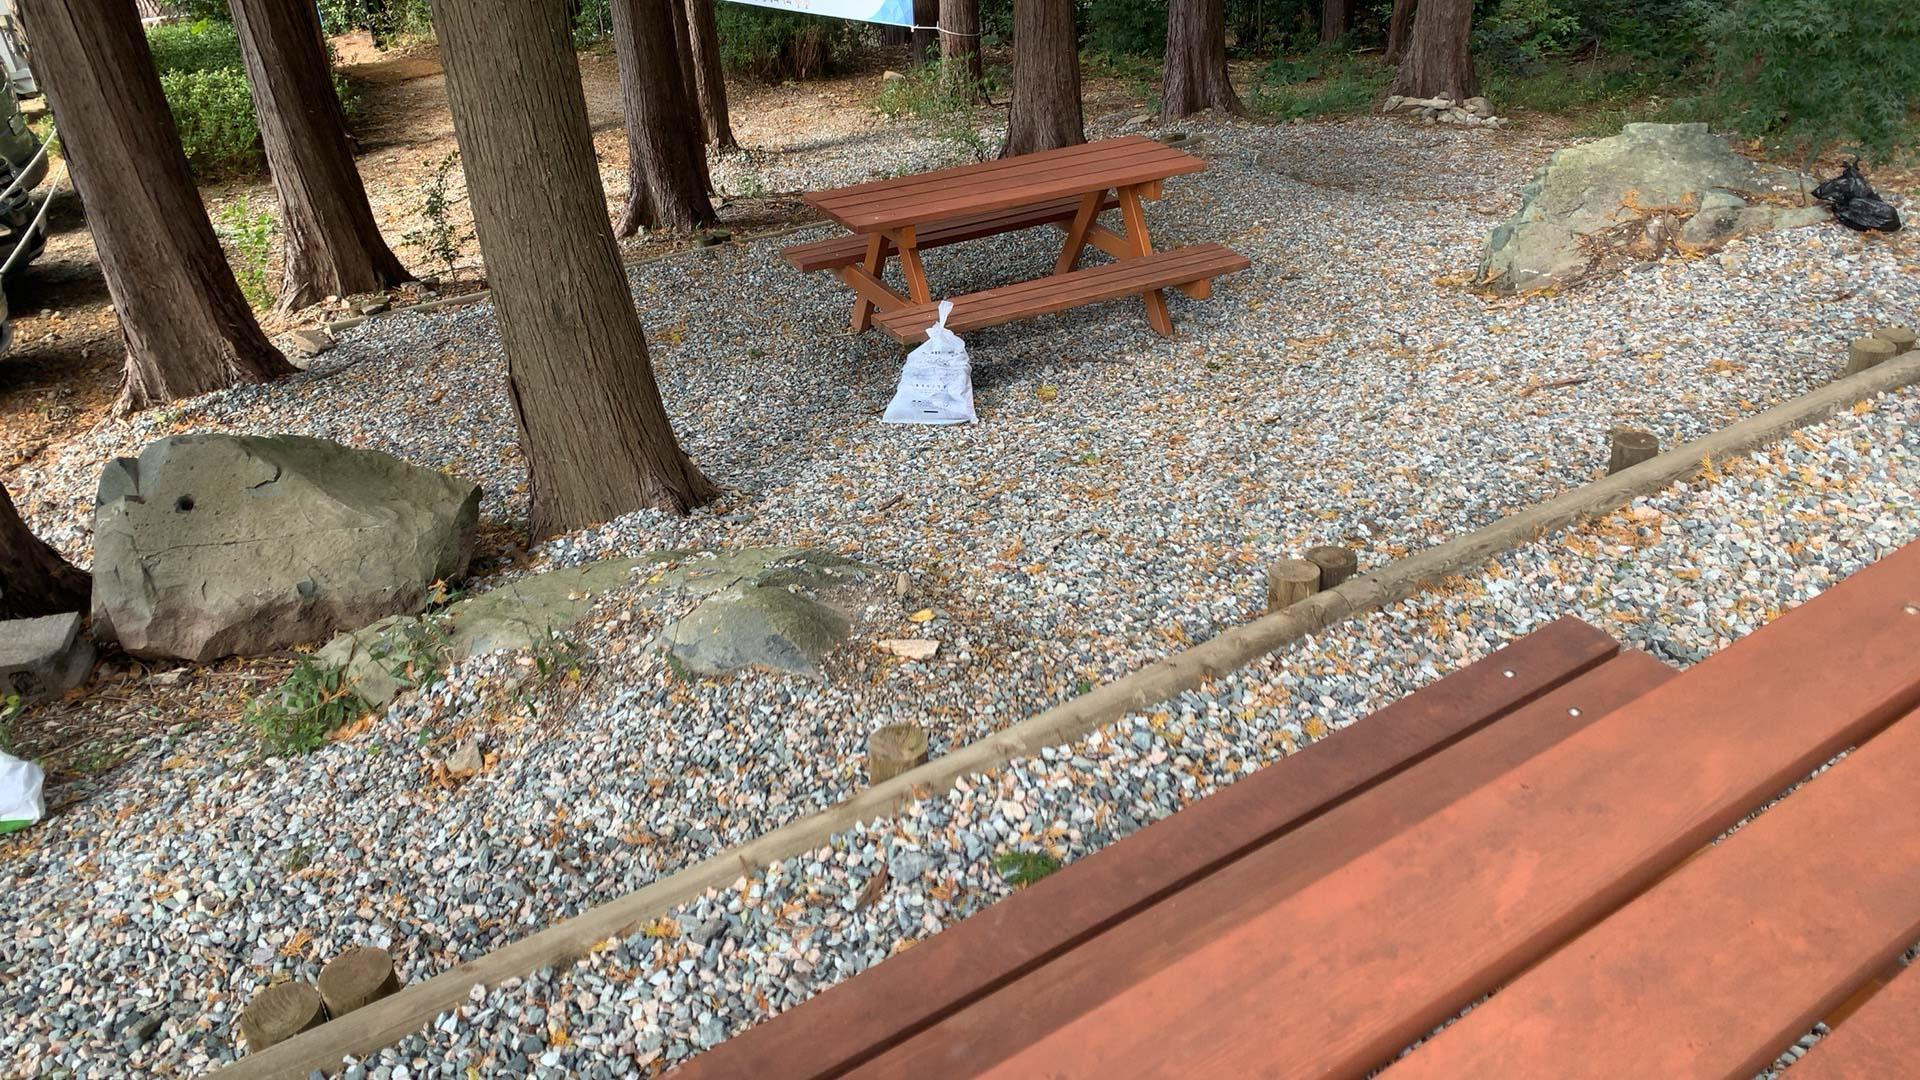black_bag: (1811, 156, 1903, 236)
white_bag: (872, 289, 984, 434)
